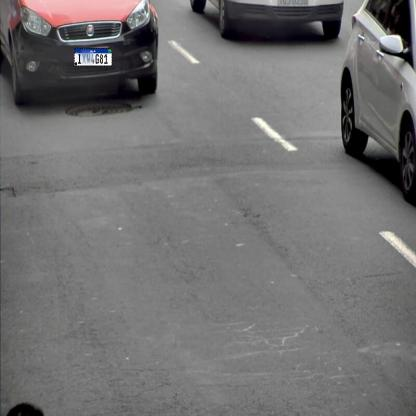PlacaM: (74, 48, 112, 66)
